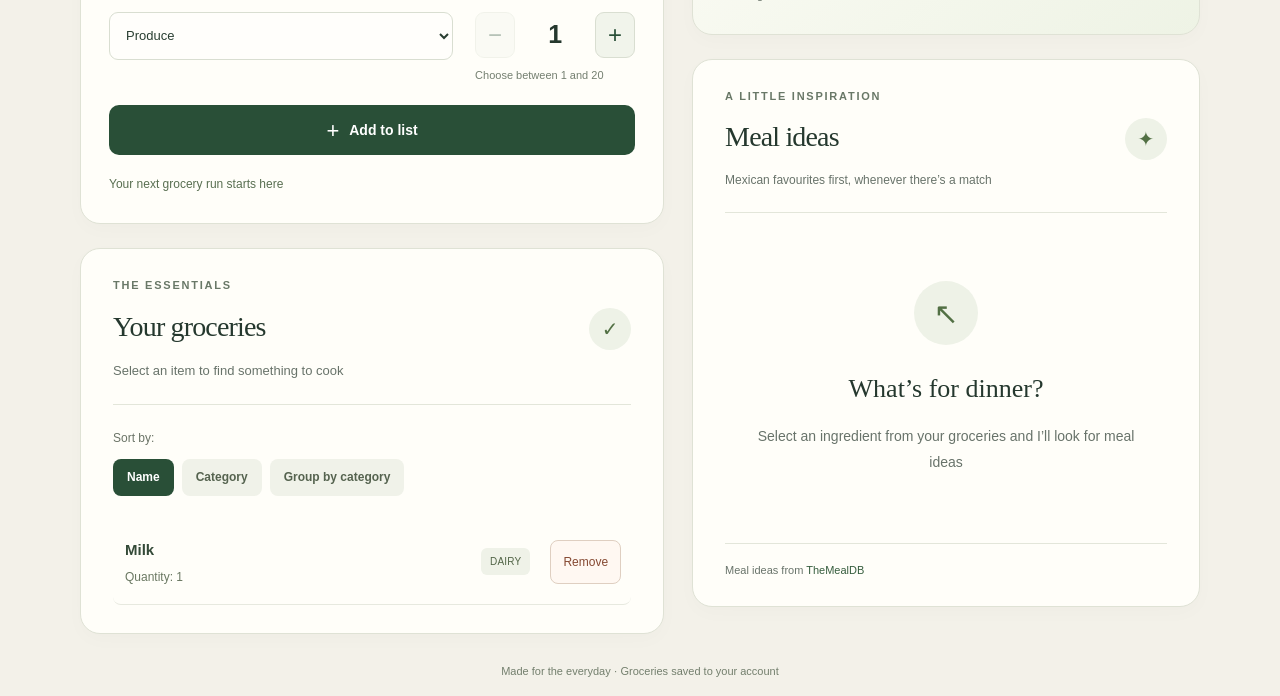
Test case: a failed removal keeps the item and can be retried from a grouped list
This screenshot has width=1280, height=696.
(page scrolled)
Check: the text "Milk" is shown, box [125,541,154,558]
Step 1. Click the button "Group by category" → (337, 477), box [270,459,404,496]
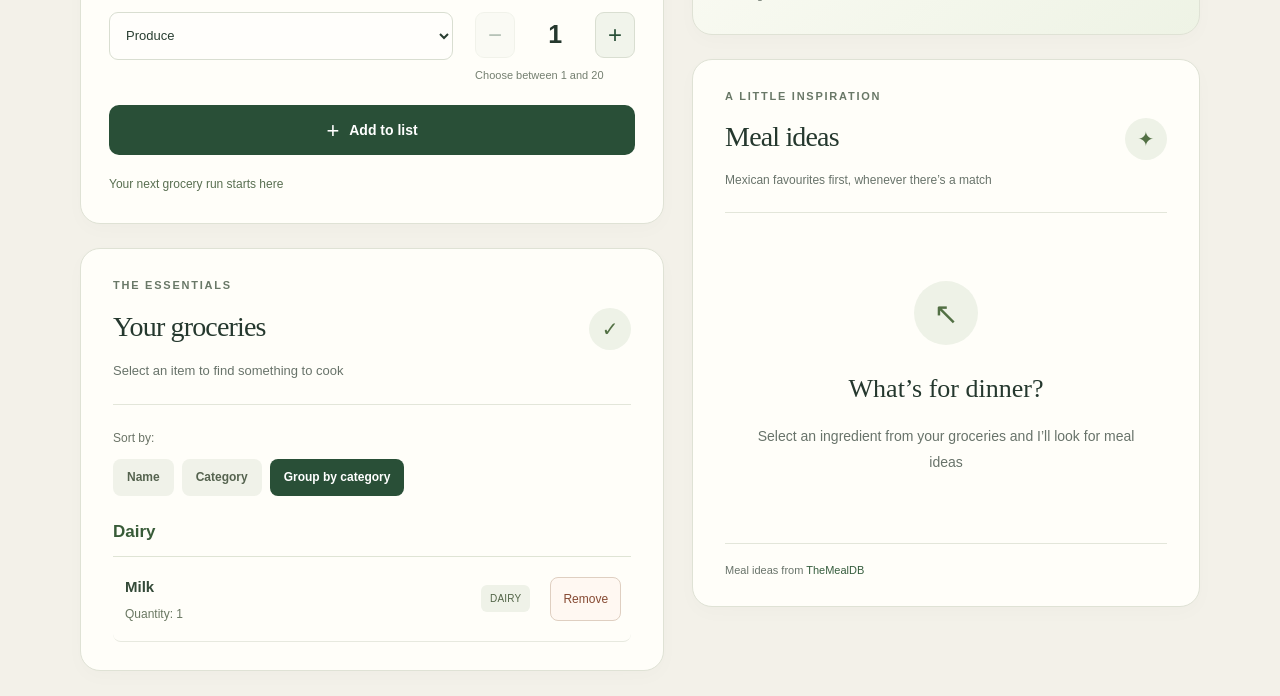
Step 2. Click the button with aria-label "Remove Milk" → (586, 599), box [550,577,621,621]
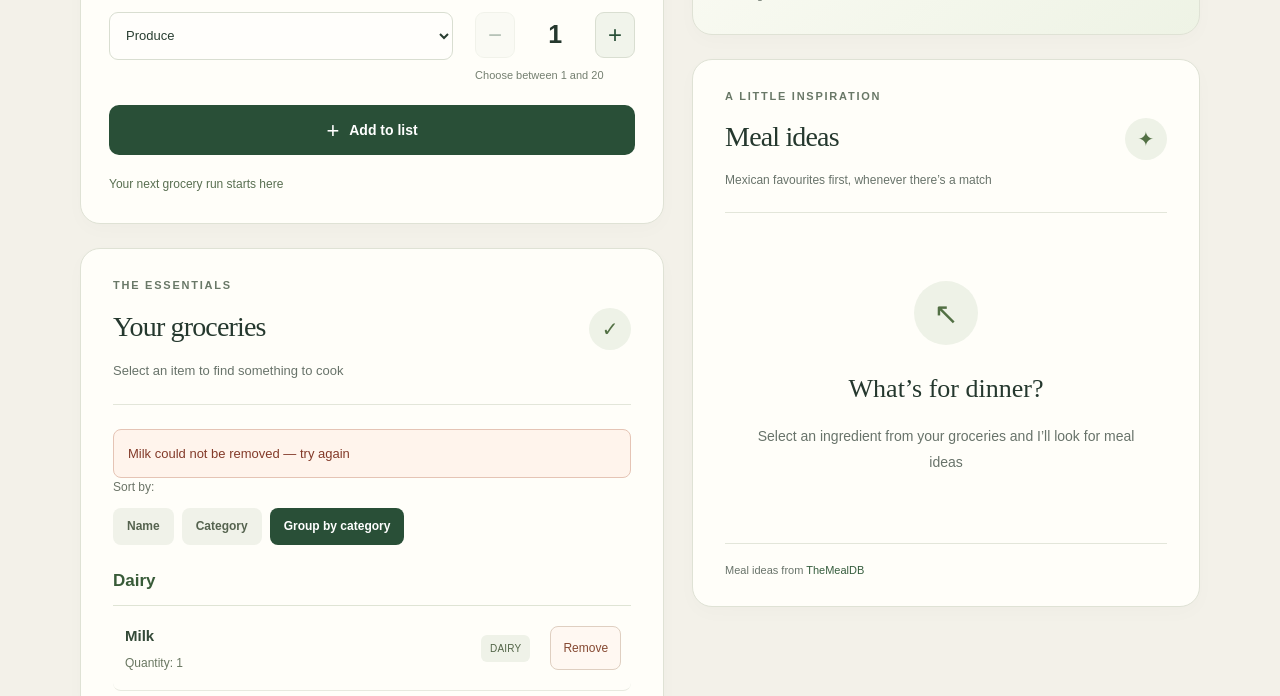
Check: the text "Milk" is shown, box [125,627,154,644]
Check: the message "Milk could not be removed — try again" is shown, box [113,429,631,478]
Step 3. Click the button with aria-label "Remove Milk" → (586, 648), box [550,626,621,670]
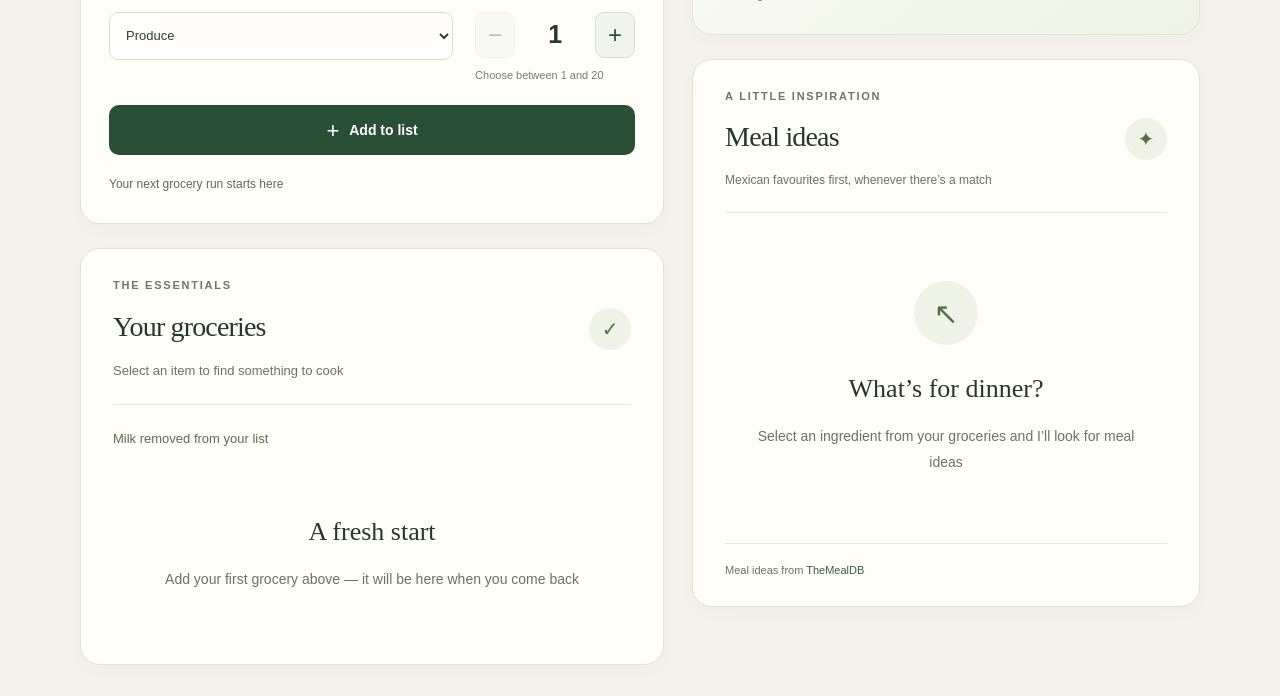
Check: the text "Milk removed from your list" is shown, box [113,431,268,446]
